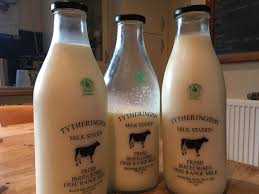milk: (33, 0, 105, 194), (165, 4, 228, 190), (104, 13, 159, 193)
